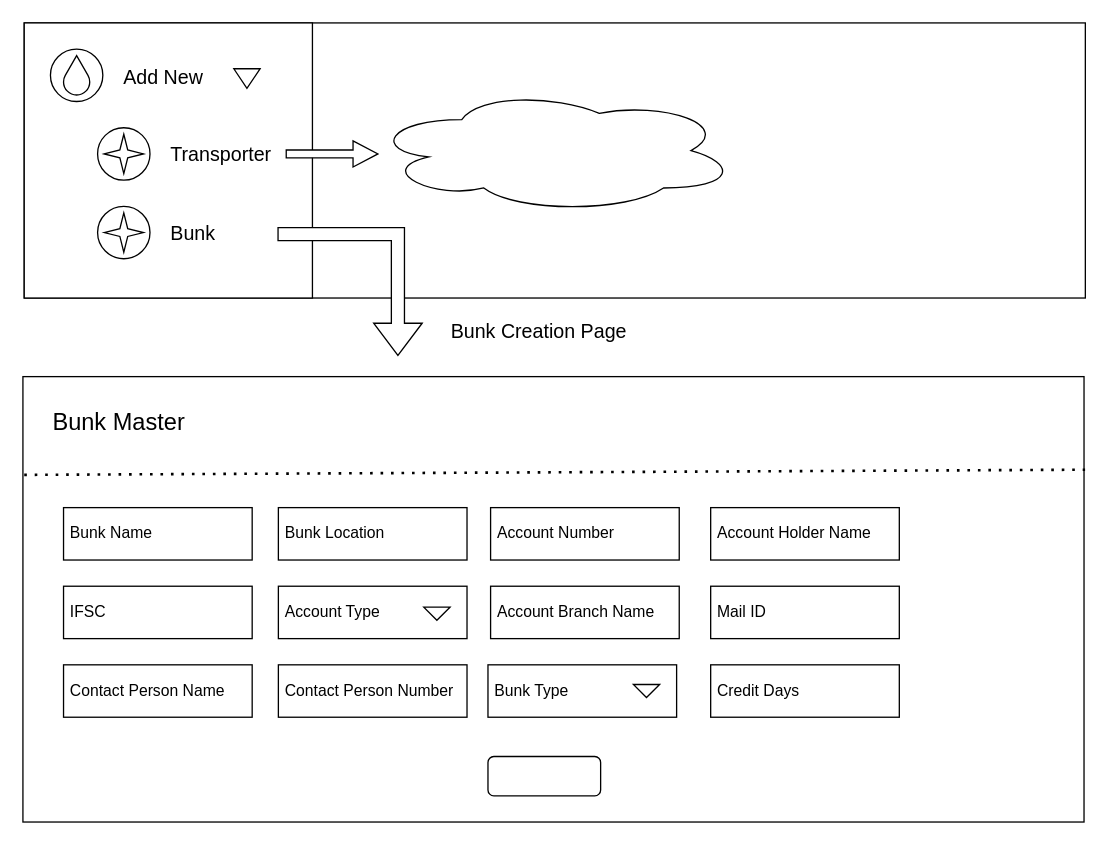
This 1111x845 diagram has some shape labels left out. Here are the shapes that lost their labels. From the top down, the centre of each, then its label:
the point at 553,150: This will open Existing Transporter Creation Page
the point at 544,775: Create Bunk
